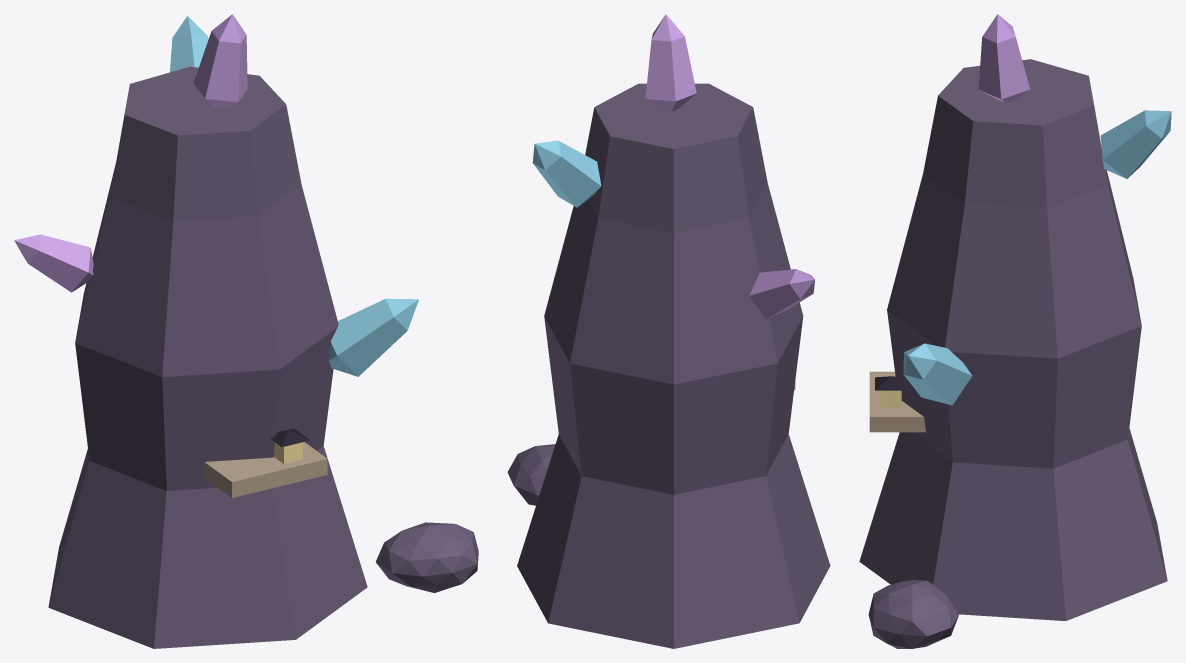
Rendered from crystal-pillar.glb.
3 views of the same model, side by side, from view 1: azimuth 30°, elevation 25°; view 2: azimuth 150°, elevation 25°; view 3: azimuth 270°, elevation 25° (orthographic). The views are drawn at different scales.
Visible parts, largest first — view 1: cave-crystal-pillar; view 2: cave-crystal-pillar; view 3: cave-crystal-pillar.
Boxes of the visible parts, x1,y1,x2,y2 form: cave-crystal-pillar: [14, 14, 478, 648]; cave-crystal-pillar: [507, 14, 830, 648]; cave-crystal-pillar: [859, 14, 1171, 648].
Bounding box in the file's own units: 2.02 × 2.87 × 1.46.
